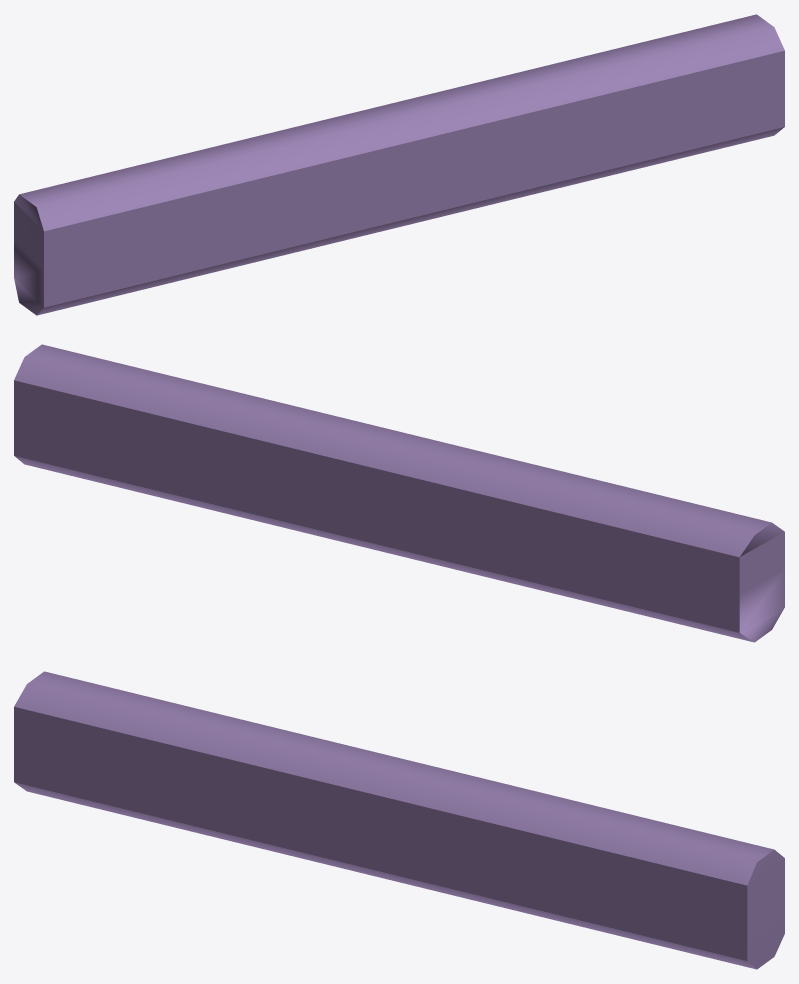
File: modulo_arriba_pared_1.fbx
3 renders of one model, top to bottom at view 1: azimuth 30°, elevation 25°; view 2: azimuth 150°, elevation 25°; view 3: azimuth 330°, elevation 25°, orthographic.
Visible parts, largest first — view 1: Box011; view 2: Box011; view 3: Box011.
Boxes of the visible parts, bbox=[...] form: Box011: bbox=[14, 14, 784, 315]; Box011: bbox=[14, 344, 784, 642]; Box011: bbox=[14, 671, 784, 969].
Bounding box in the file's own units: 203 × 28.43 × 18.04.
